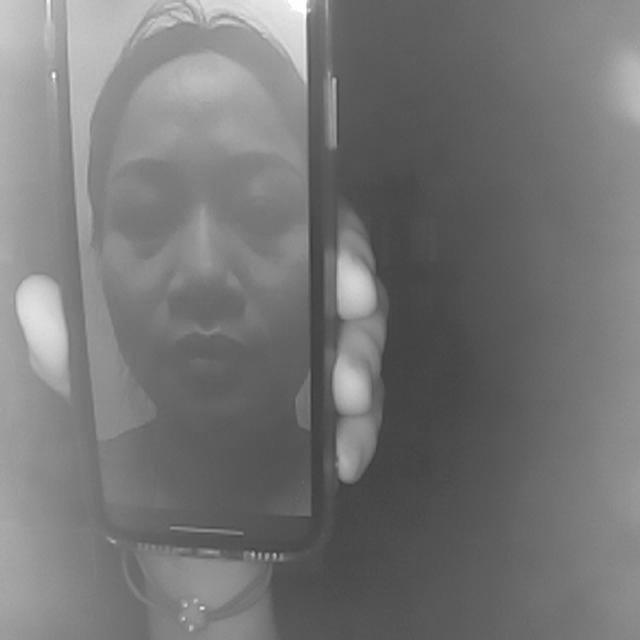fake: (46, 4, 334, 558)
